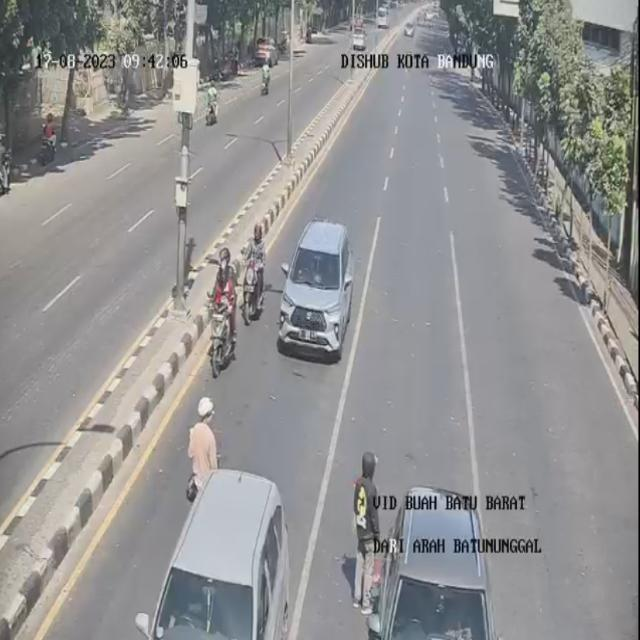cars: (142, 471, 291, 640), (372, 487, 511, 640), (284, 220, 357, 360)
motorcycle: (204, 253, 237, 377), (246, 217, 265, 324)
